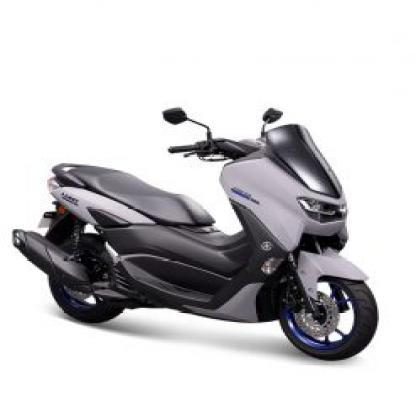Motorcycle: (12, 93, 383, 368)
